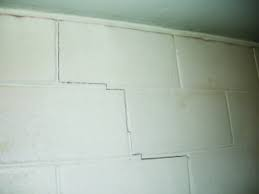stairstep_crack: (53, 19, 190, 193)
